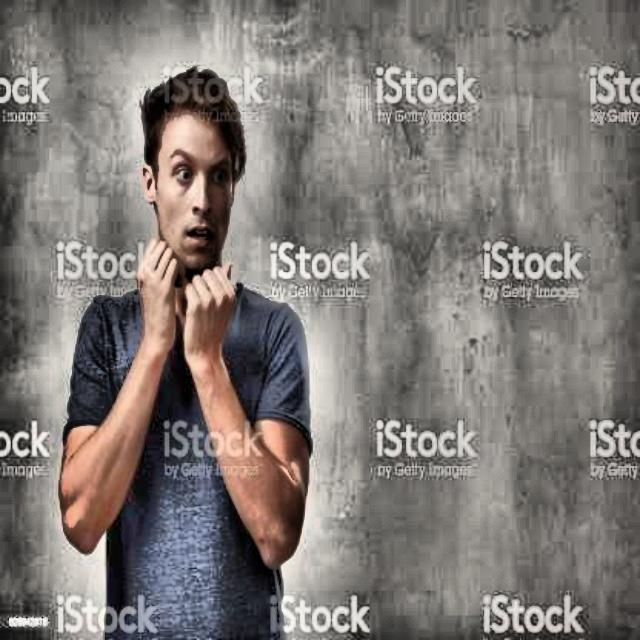fear: (134, 78, 254, 273)
